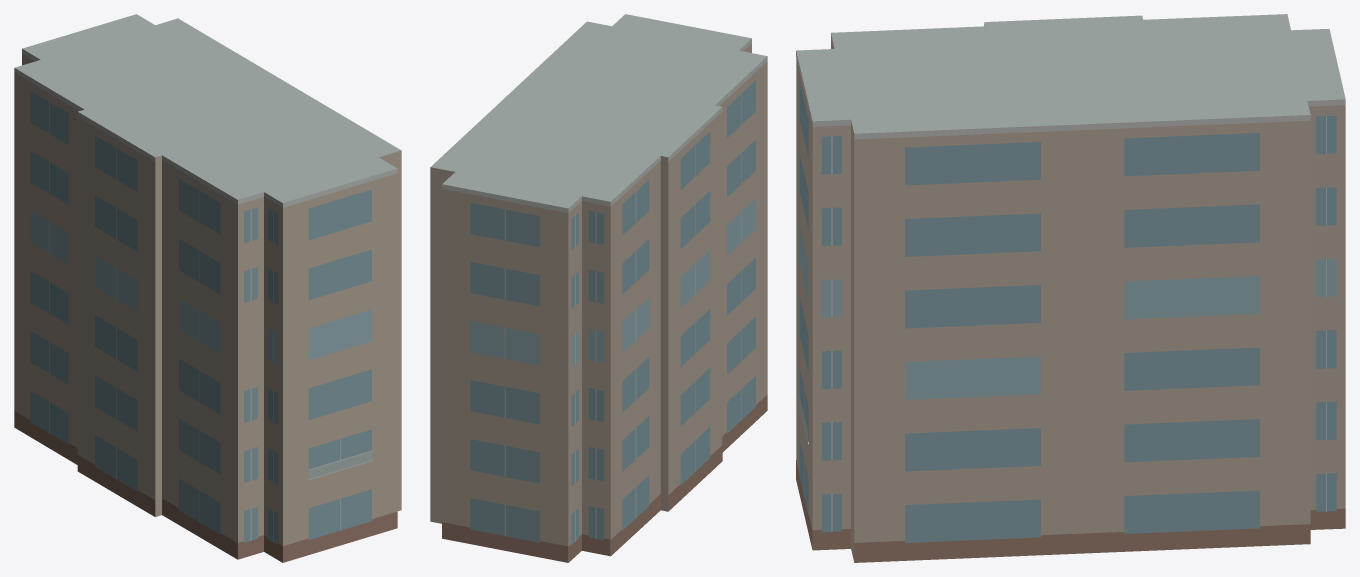
The model's file is survey-upis-32979196.glb.
3 views of the same model, side by side, from view 1: azimuth 30°, elevation 25°; view 2: azimuth 150°, elevation 25°; view 3: azimuth 270°, elevation 25° (orthographic). The views are drawn at different scales.
Visible parts, largest first — view 1: survey-upis-32979196.tmp; view 2: survey-upis-32979196.tmp; view 3: survey-upis-32979196.tmp.
Part boxes in pixels (x1,y1,x2,y2): survey-upis-32979196.tmp: (14, 14, 401, 562); survey-upis-32979196.tmp: (430, 14, 767, 562); survey-upis-32979196.tmp: (796, 14, 1345, 562).
Bounding box in the file's own units: 11.02 × 18.4 × 21.37.
